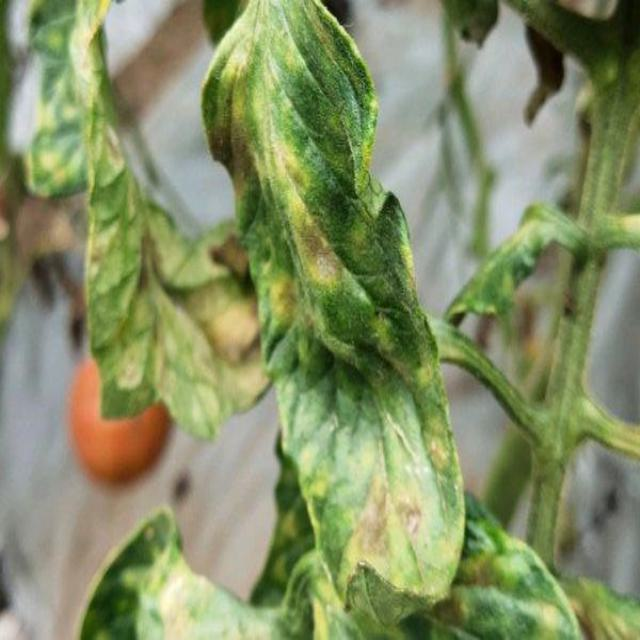Leaf_Mold: (215, 3, 465, 625), (33, 1, 270, 435), (69, 513, 640, 640)
